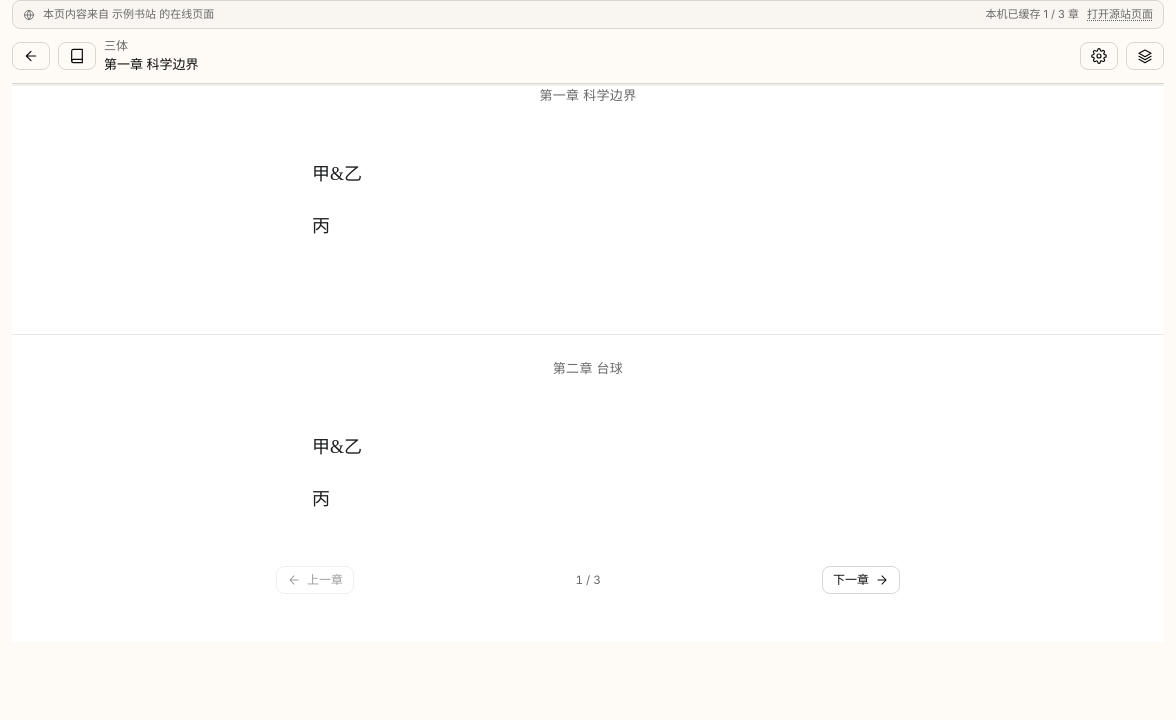
ReaderView · 在线读的来源标注（第 93 期） › 目录抽屉顶部有同一条标注
Click the button named "目录" at (77, 56), box [58,42,96,70]
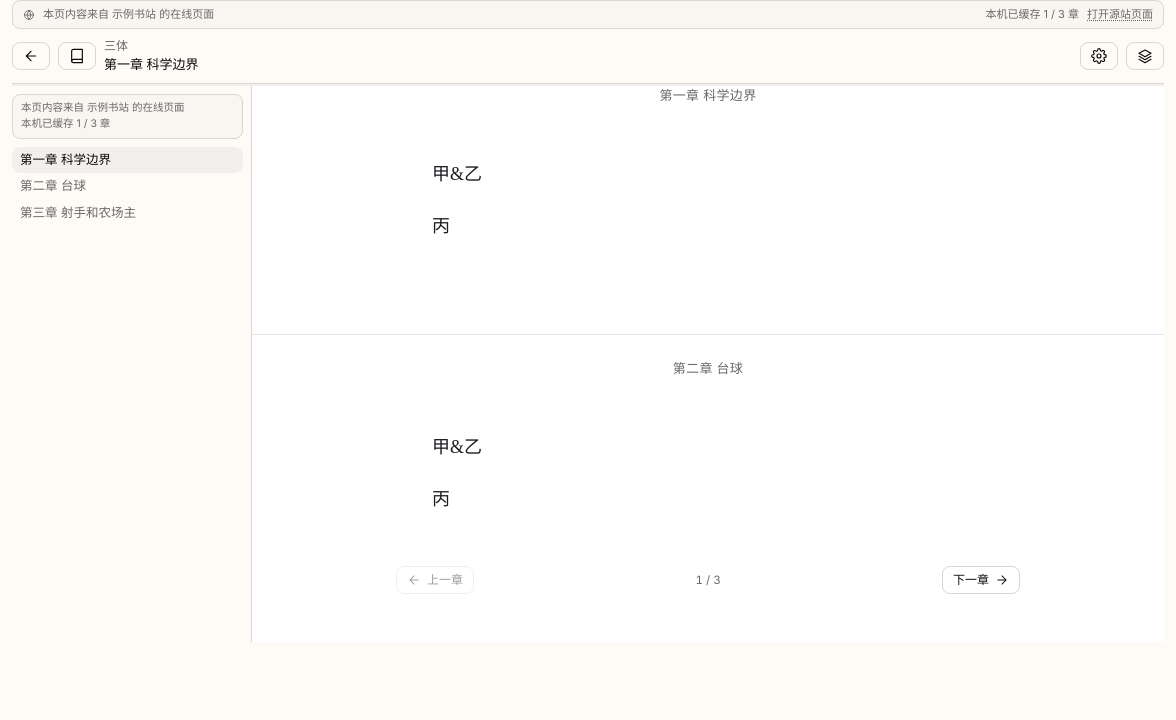
Result: the element with test id "online-banner-toc" is shown at [12,94,243,138]
Result: the element with test id "online-banner-toc" shows "示例书站" at [21,101,184,114]
